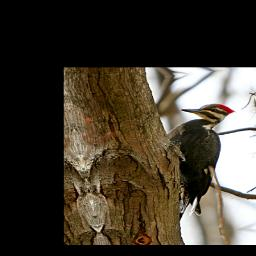Woodpecker: (151, 101, 256, 222)
